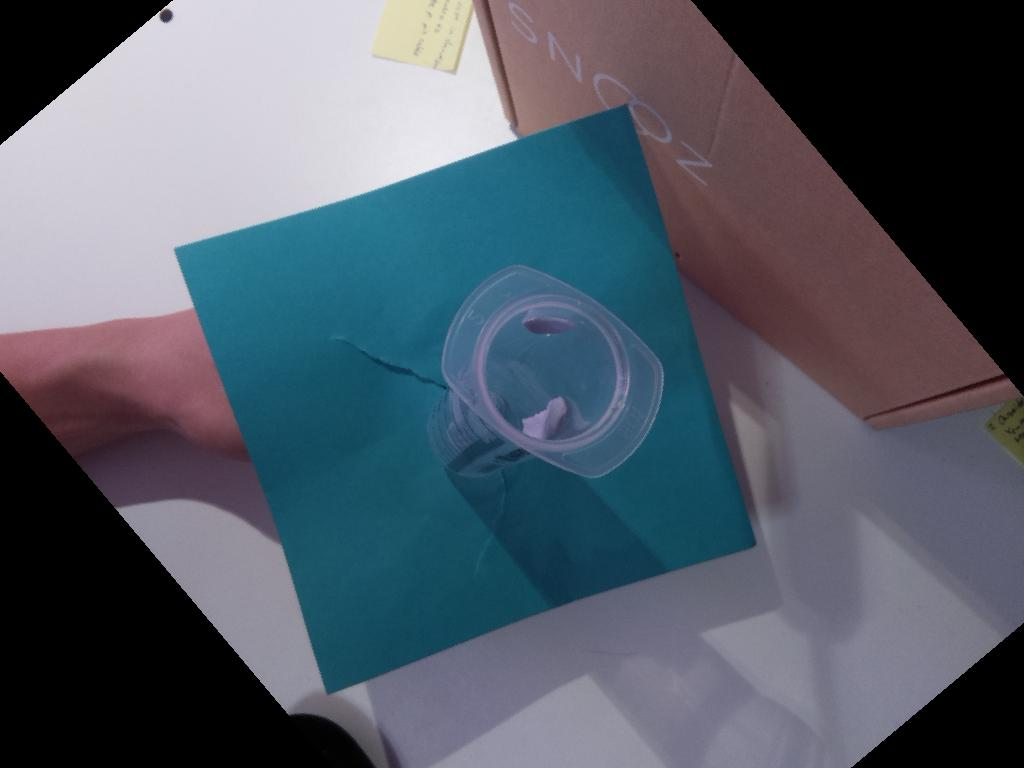dirty: (442, 262, 665, 479)
